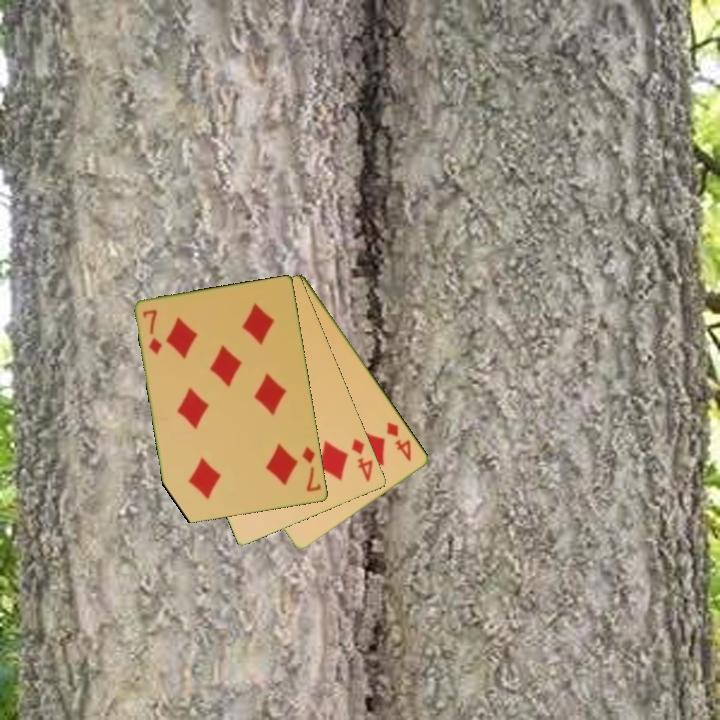4d: (383, 418, 415, 464), (348, 434, 376, 485)
7d: (299, 443, 324, 495), (140, 306, 165, 358)
